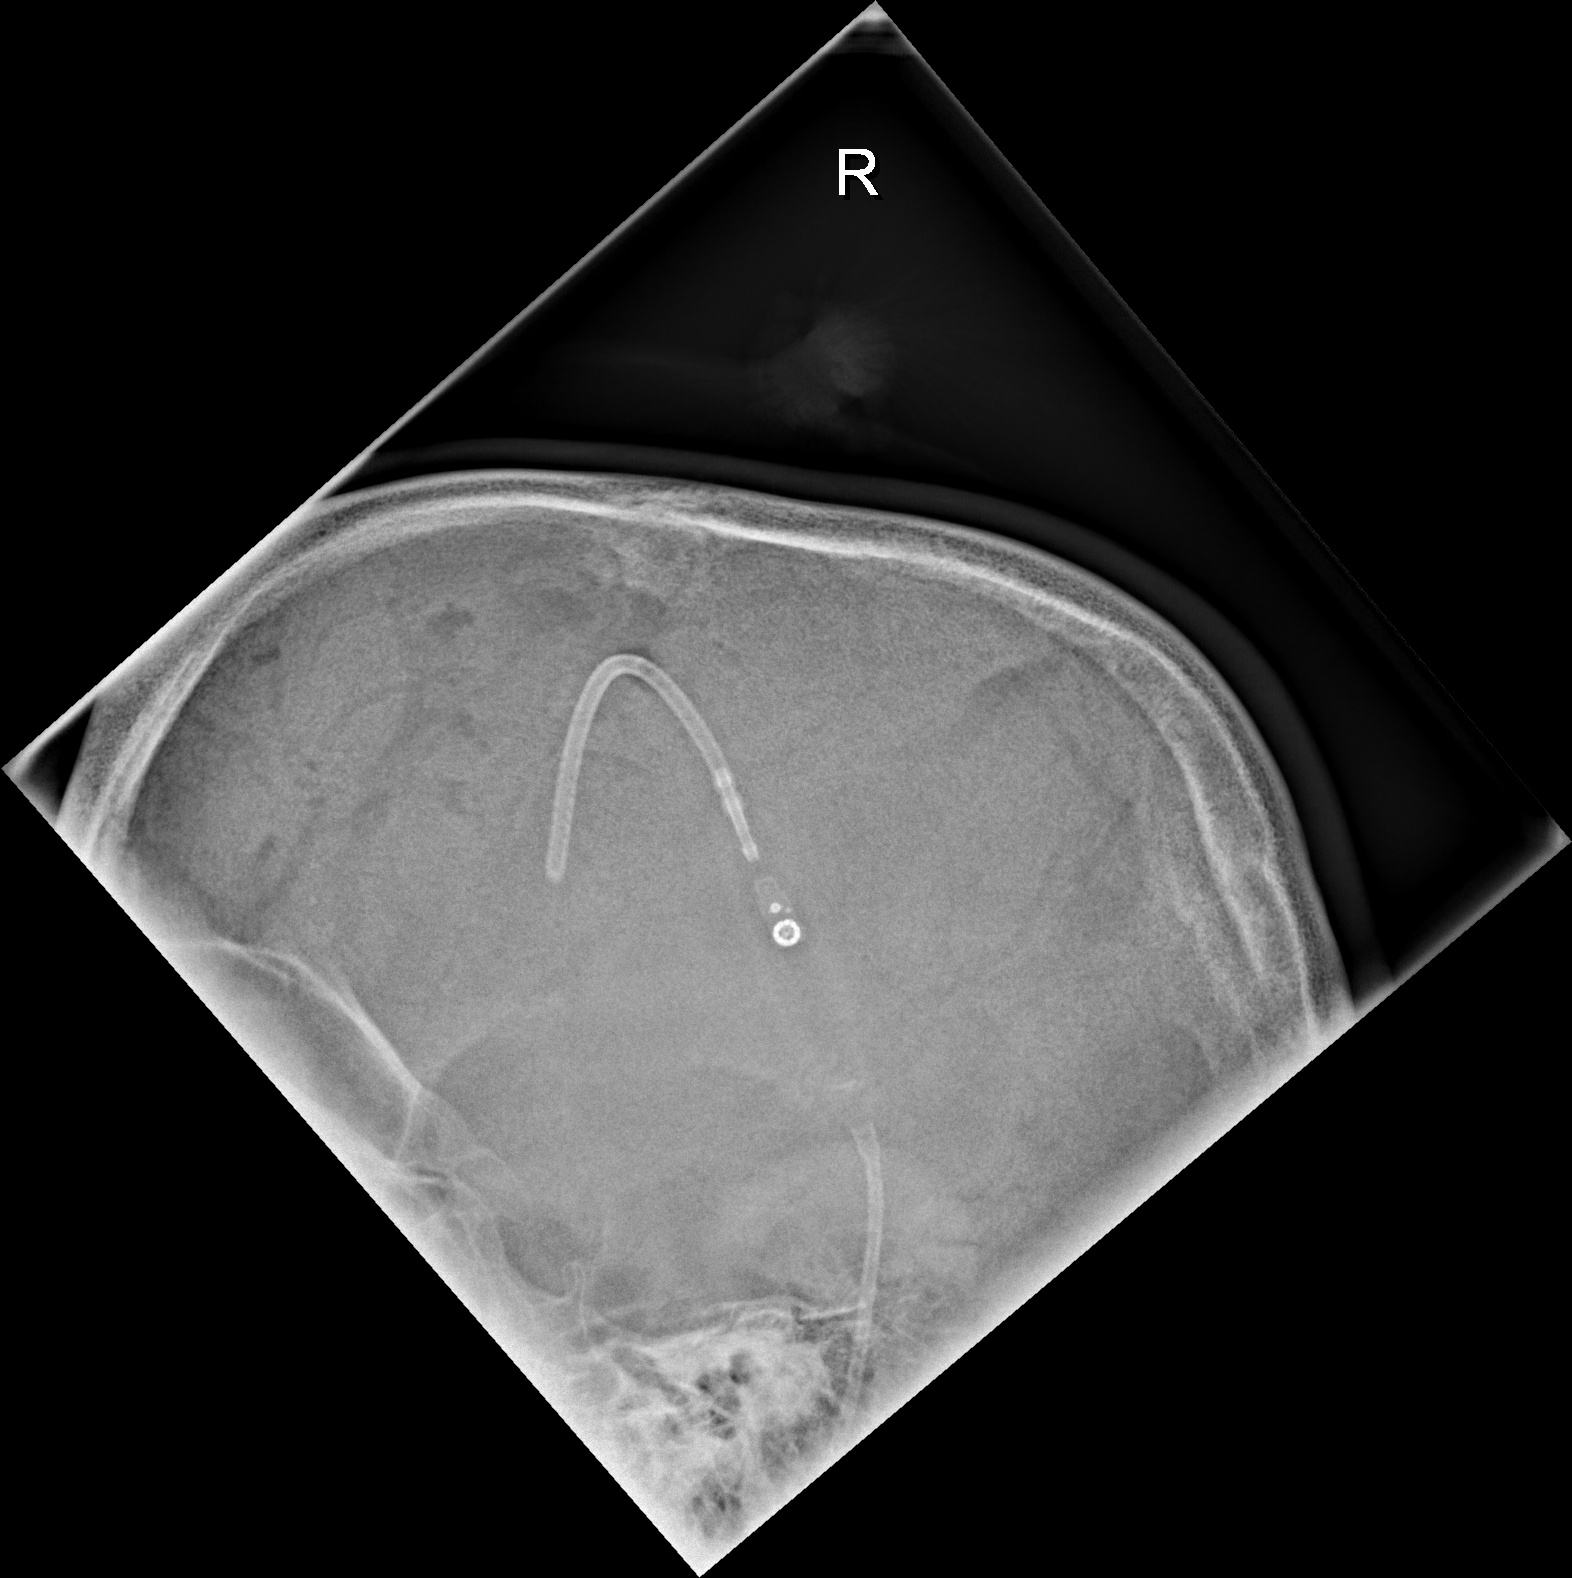Codman Hakim: (740, 870, 822, 970)
